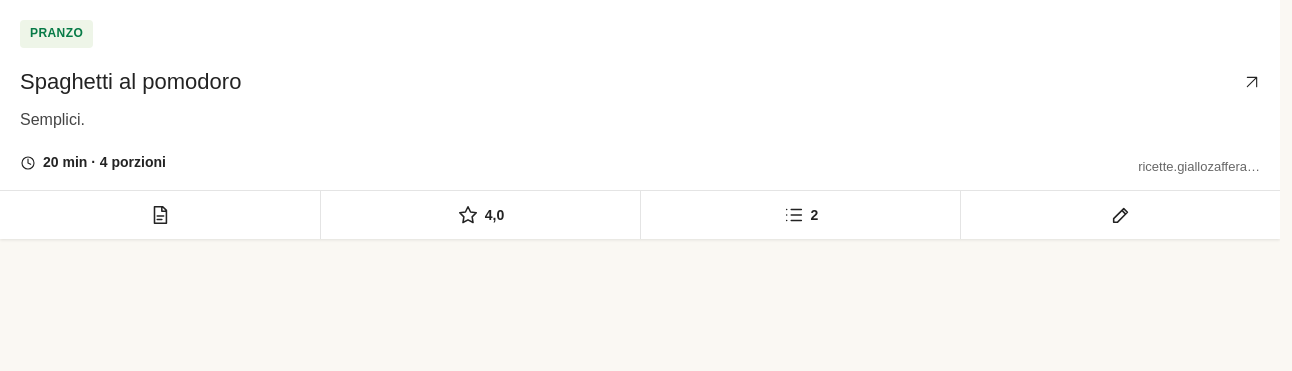
Test case: RecipeCard with the meal actions of the menu › a recipe shows details, rating, ingredients and the pencil; the pencil opens its panel
Check: the link named "Scheda ricetta" is shown, box 149,204 -> 171,226
Check: the button named "Voto della famiglia" is shown, box 320,191 -> 640,239
What coordinates should you click on to do the following:
click the button named "Modifica il pasto"
I would click on:
 (1120, 215)
Its box is 960,191 -> 1280,239.
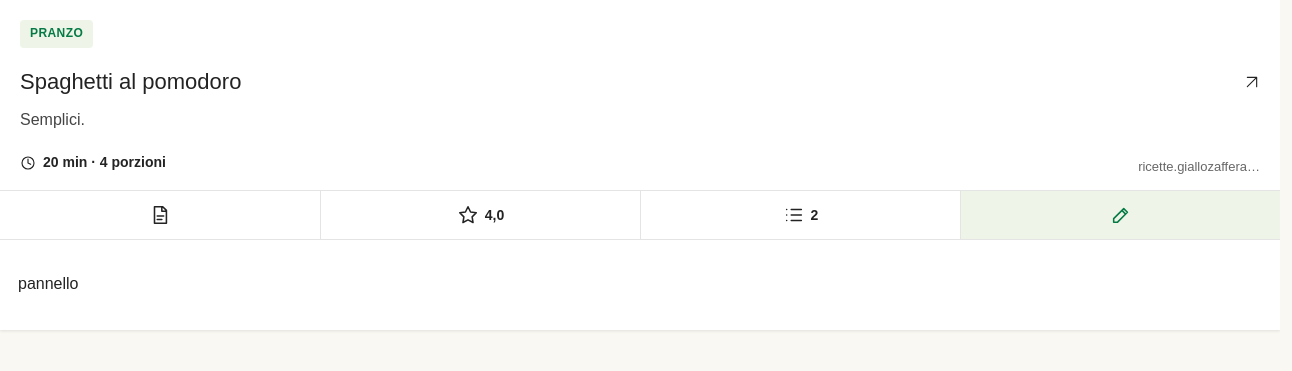
Check: the text "pannello" is shown, box 18,275 -> 78,292
What coordinates should you click on to do the following:
click the button named "ingredienti"
I would click on:
 (800, 215)
Its box is 640,191 -> 960,239.
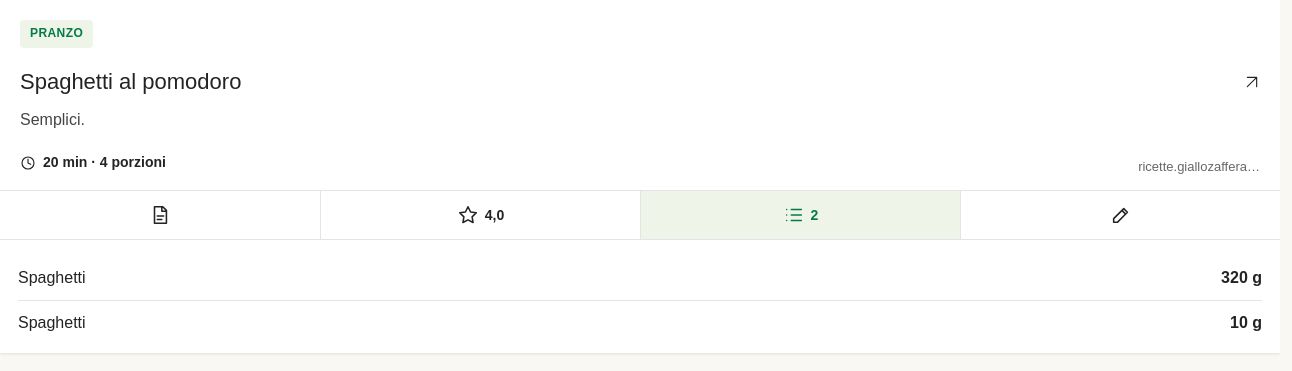
Check: the text "pannello" is gone
